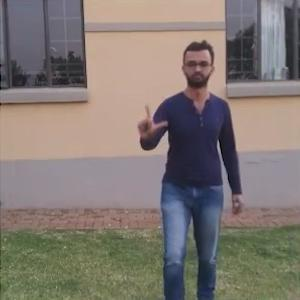land_hand: (136, 98, 171, 139)
